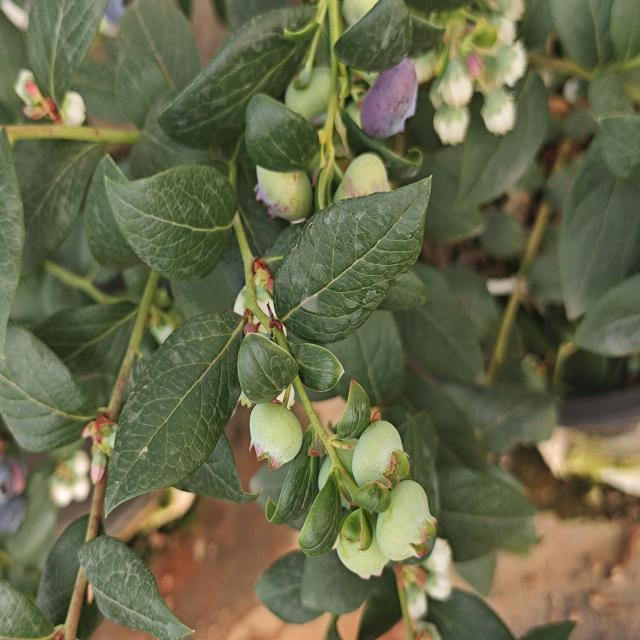ripe: (370, 65, 425, 137)
